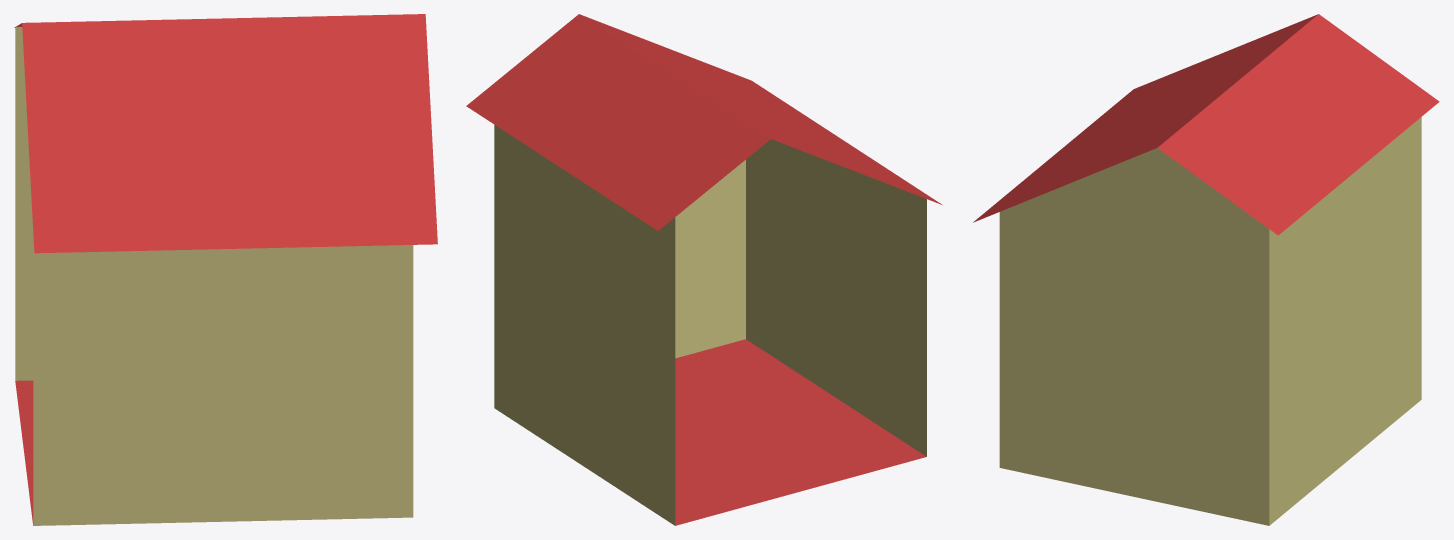
The picture shows the model from 3 angles, left to right: view 1: azimuth 30°, elevation 25°; view 2: azimuth 150°, elevation 25°; view 3: azimuth 270°, elevation 25°; orthographic projection. The views are drawn at different scales.
Size of the model in its own units: 11.53 by 11.4 by 9.79.
